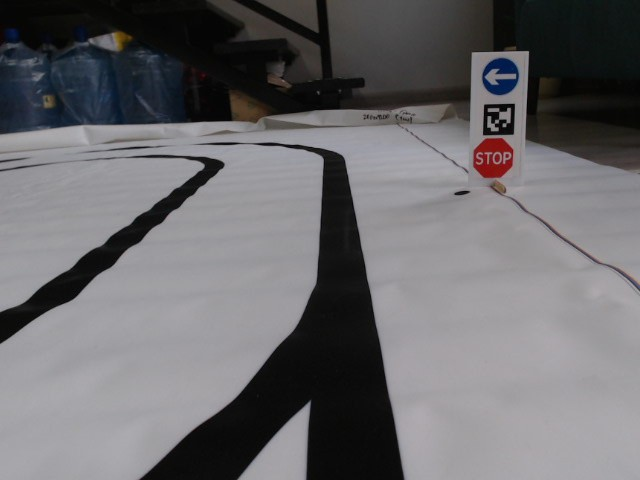Stop: (471, 136, 513, 177)
